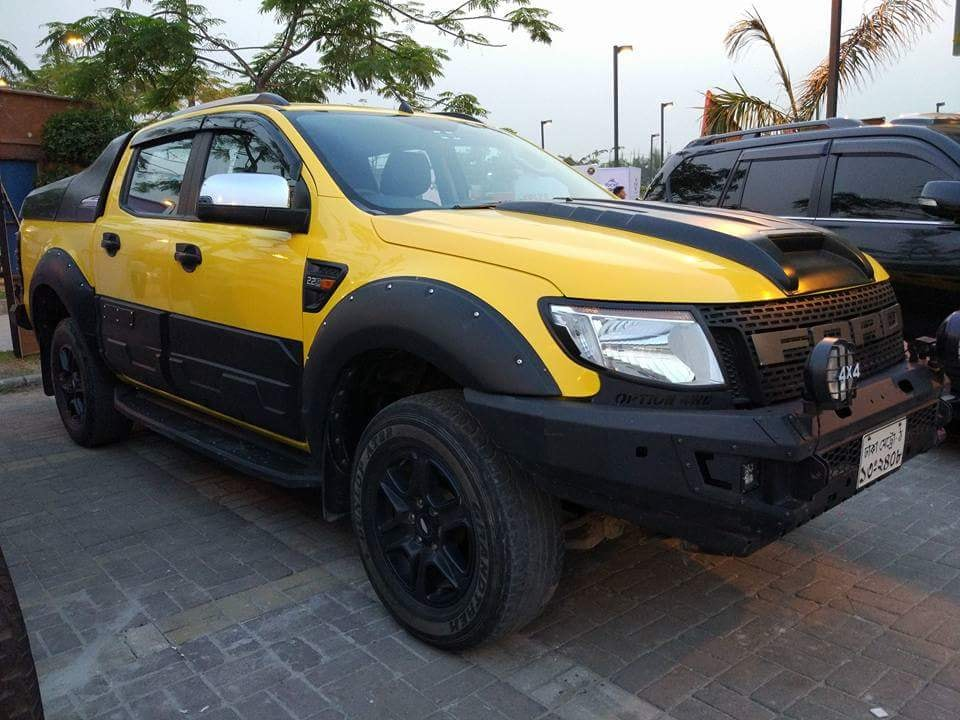registration_plate: (856, 416, 906, 490)
